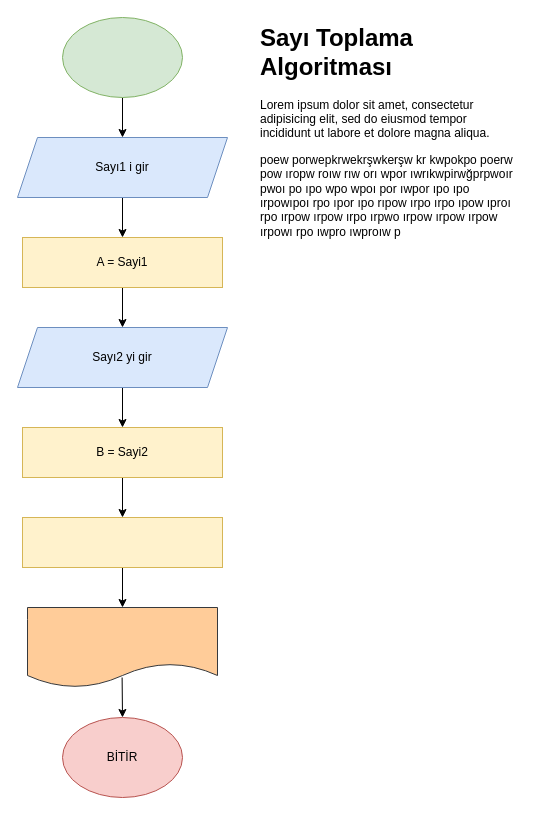
Some shapes in this 536 by 815 pixel diagram are drawn without their labels. The shapes that lost their labels are listed below. From the top down, each one's box as (x1, y1, x2, y2) in pixels, then its label:
(62, 16, 182, 98): BAŞLA
(22, 516, 222, 568): Toplam = A + B
(26, 606, 218, 688): Toplam
